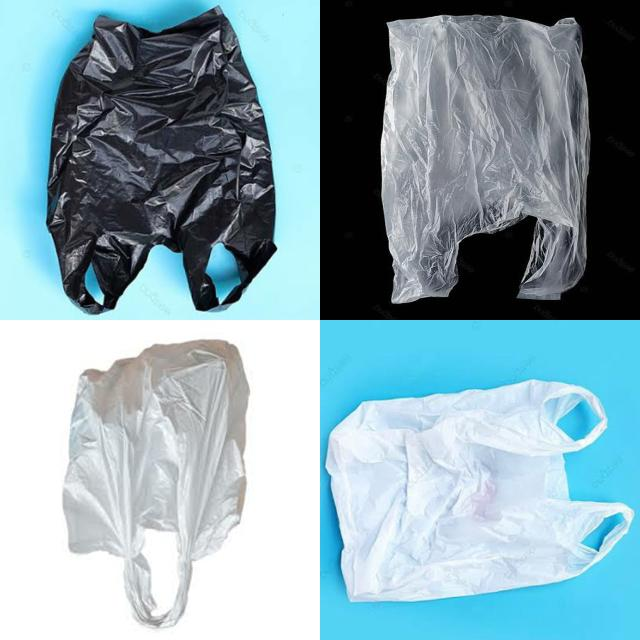Single-layer Plastic: (46, 8, 276, 314), (326, 380, 634, 601), (381, 15, 590, 304), (64, 341, 248, 626)
